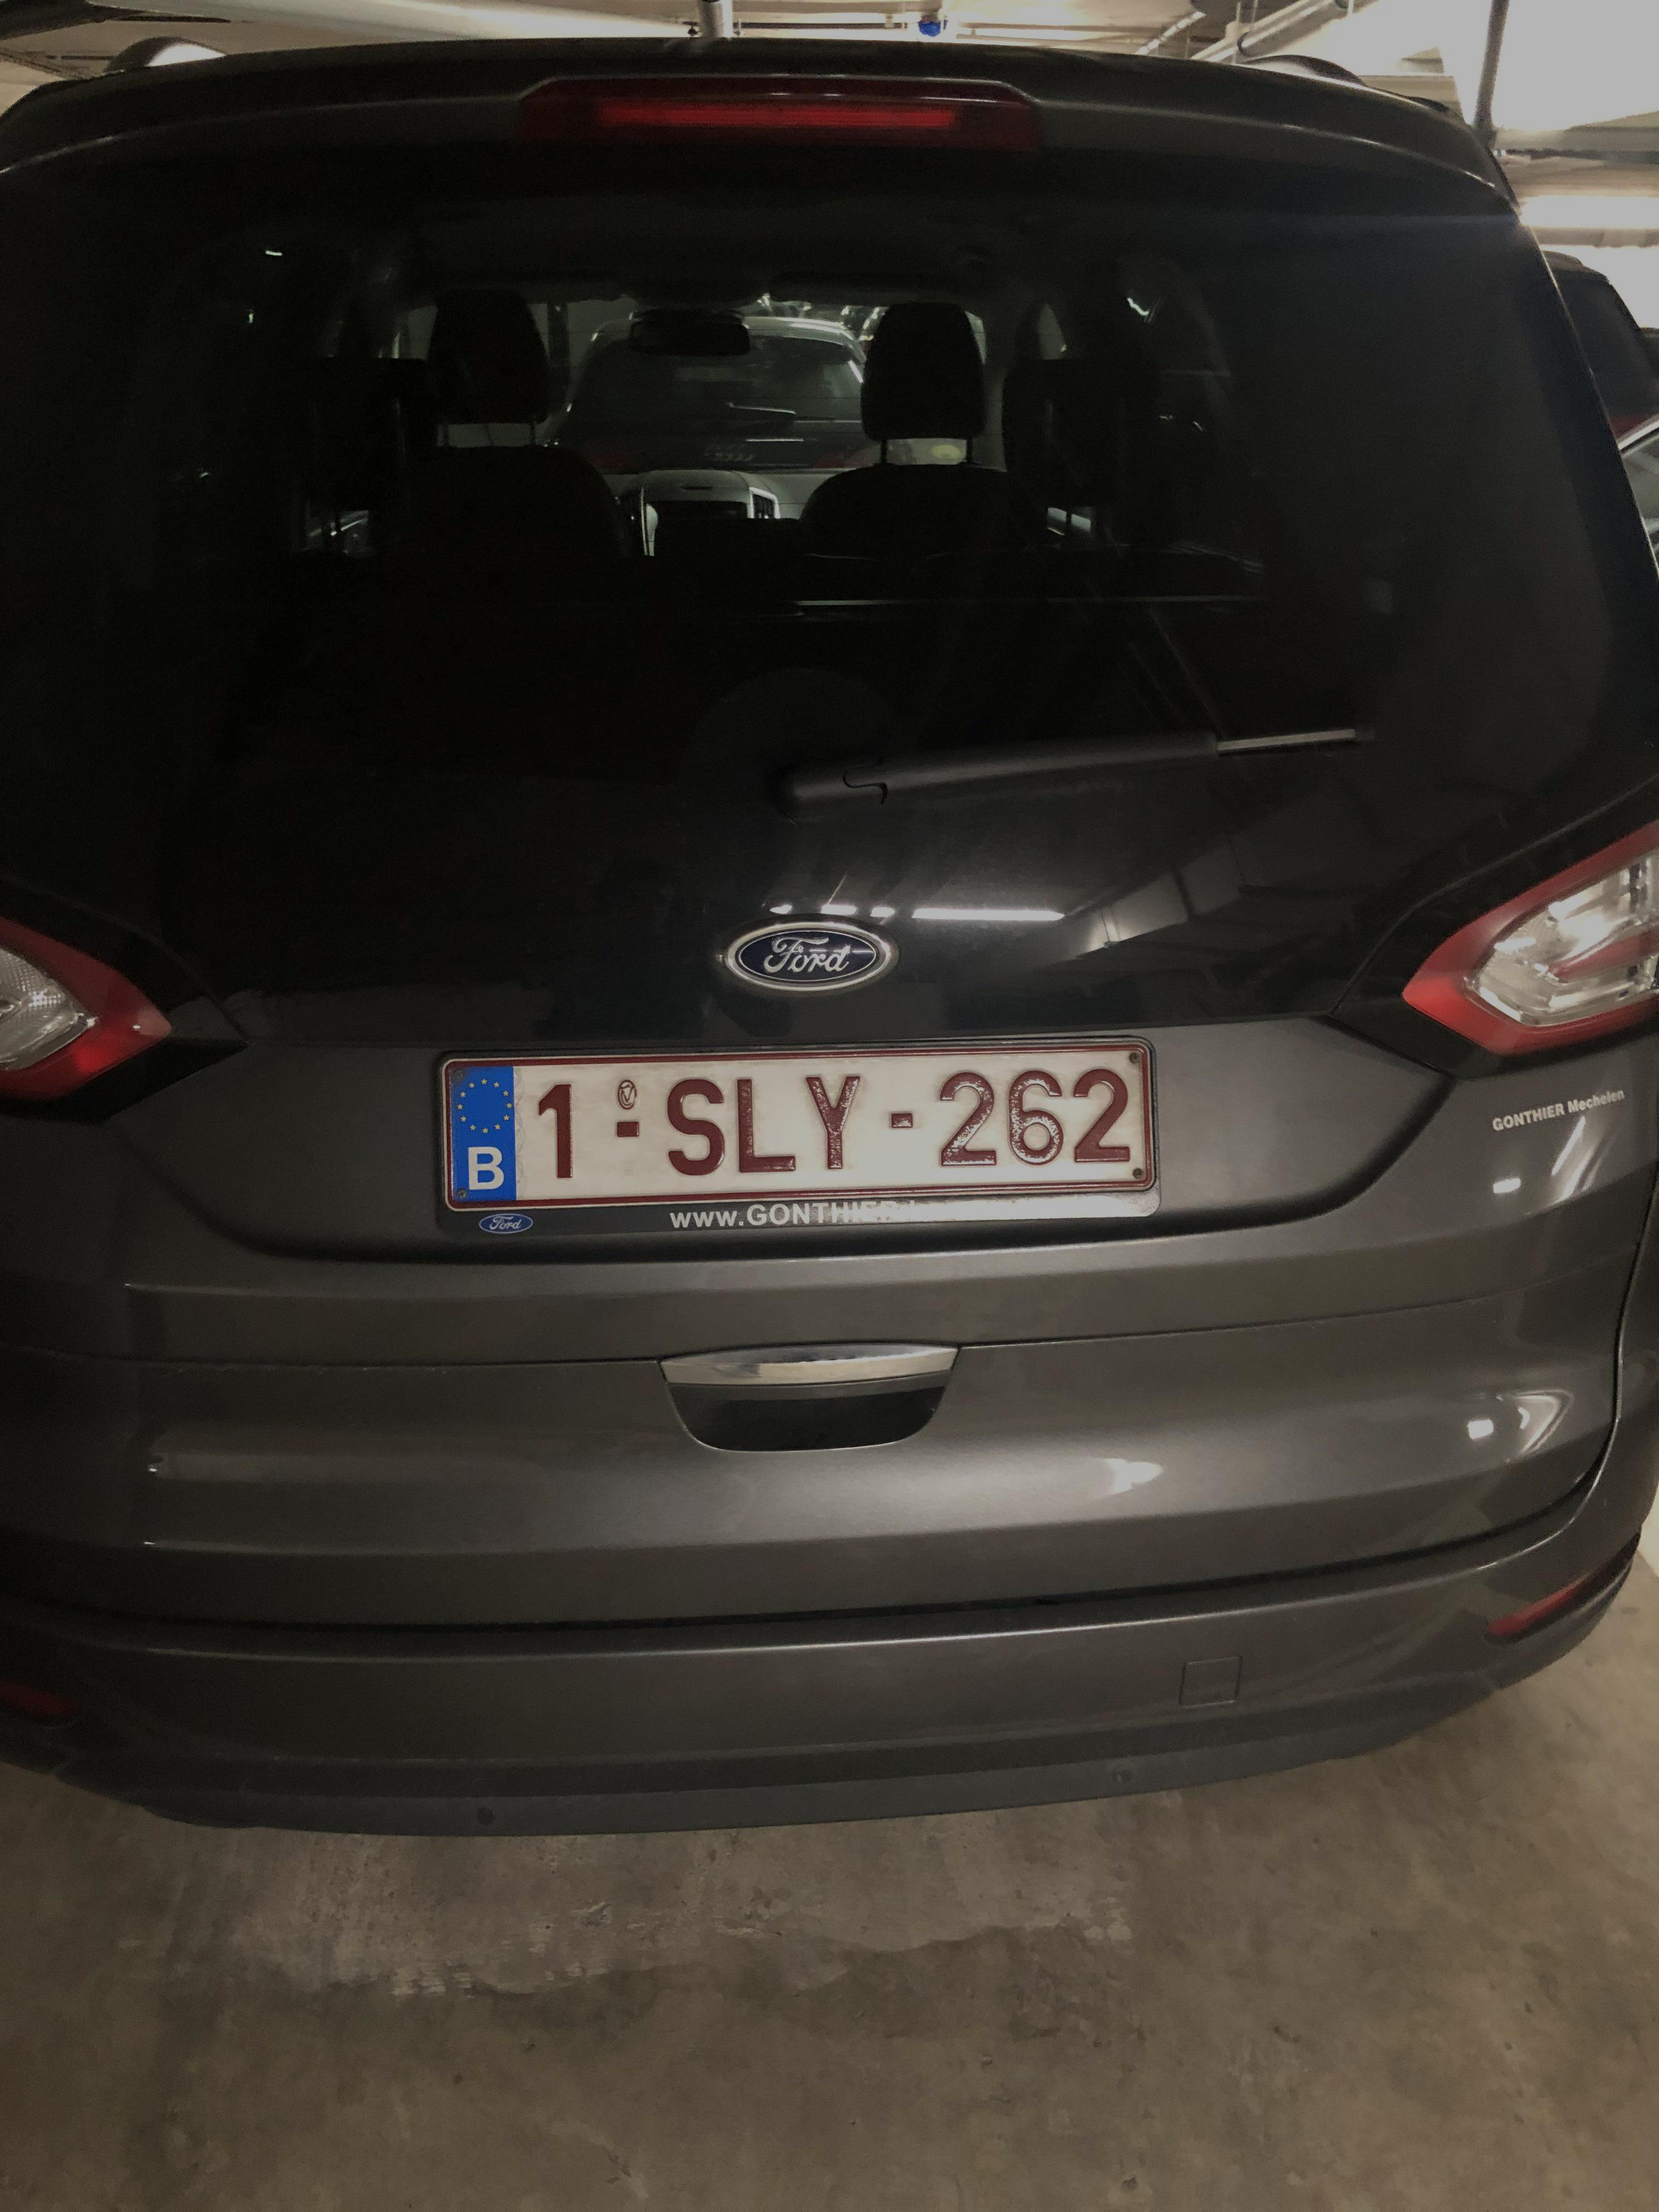plate: (385, 1025, 1196, 1221)
